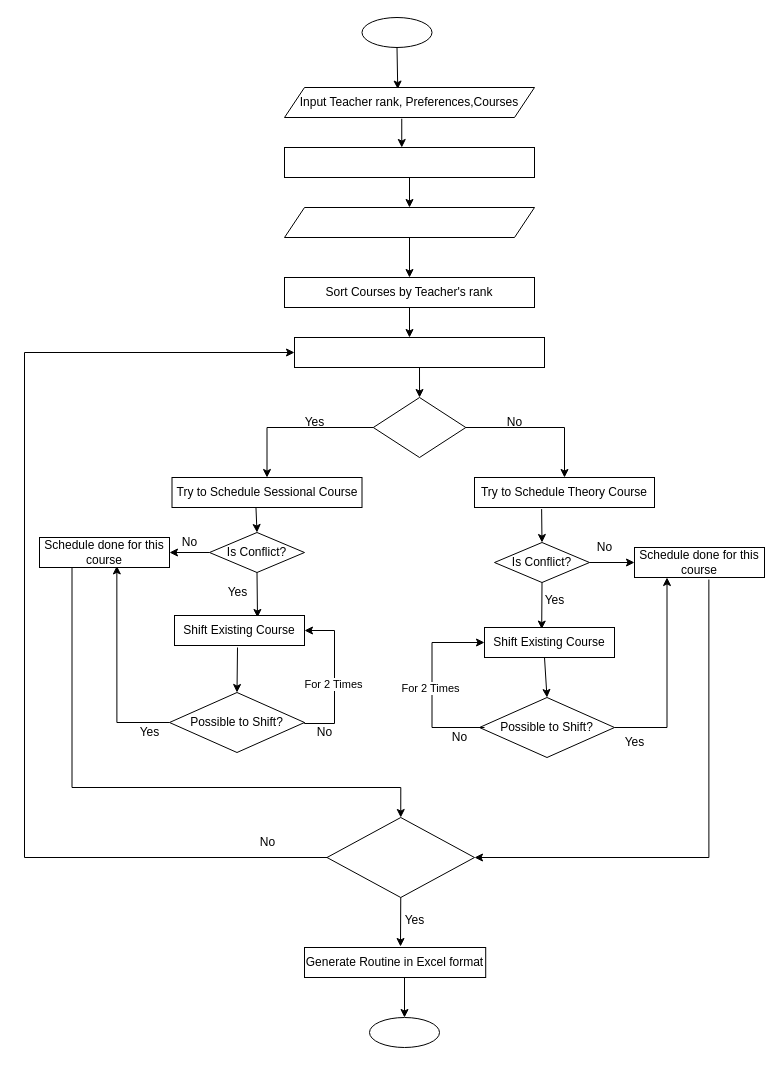
The diagram is 782 pixels wide and 1065 high, and some of its shapes have lost their labels. Here are the shapes that lost their labels. From the top down, the centre of each, then its label:
pixel 396 32: Start
pixel 409 162: Save Inputs to JSON files
pixel 409 222: Read Inputs form JSON files
pixel 419 352: For each Course
pixel 419 427: Is Sessional?
pixel 400 857: Schedule All Courses?
pixel 404 1032: End
